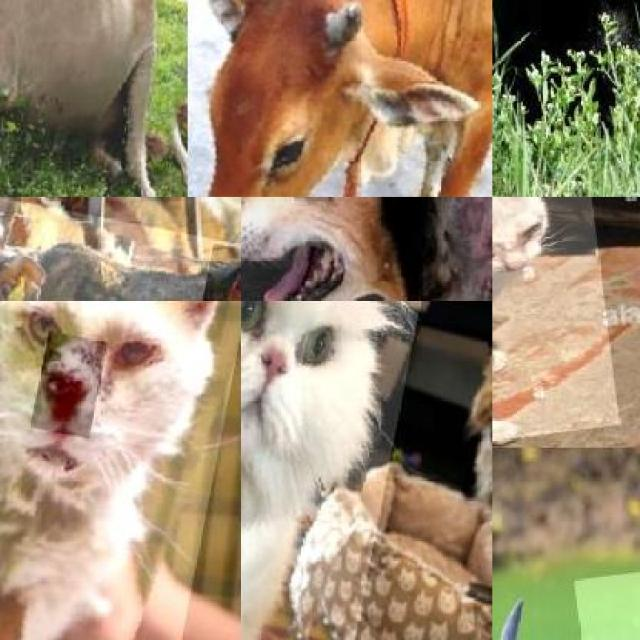buffalo: (492, 0, 639, 138)
cat: (0, 300, 240, 640), (240, 300, 445, 640), (492, 197, 618, 448), (458, 328, 492, 522)
cow: (188, 0, 492, 197), (0, 0, 188, 197), (0, 197, 240, 300)
dog: (240, 197, 492, 300)
injured: (400, 197, 492, 300), (30, 330, 107, 438), (430, 63, 492, 197), (194, 243, 240, 300)
